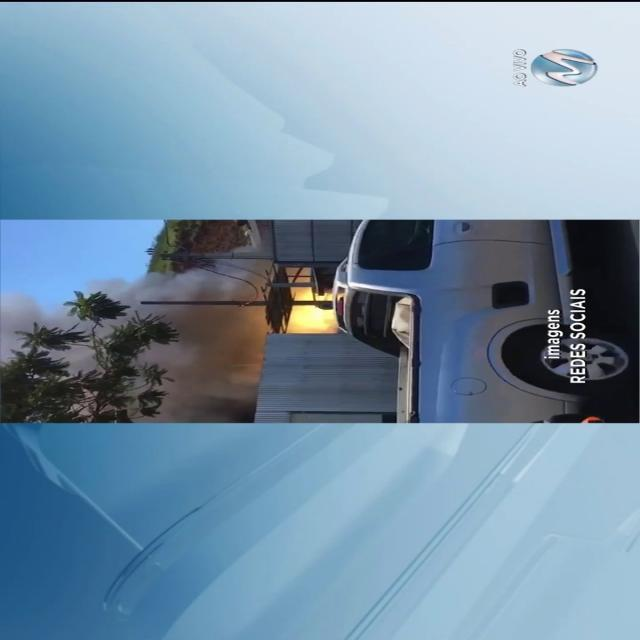Fire: (2, 240, 272, 418), (286, 288, 336, 332)
